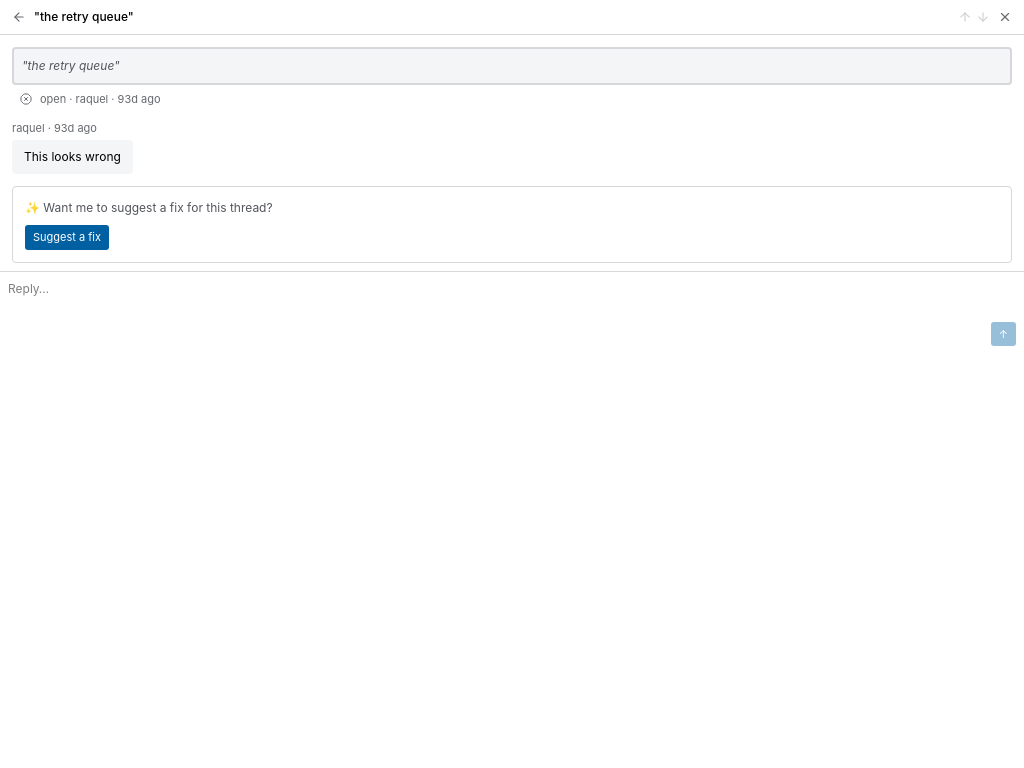
Test: ThreadView › history events appear when the status row is clicked
The width and height of the screenshot is (1024, 768).
Click the element with test id "status-row": (90, 99) x1=20 y1=92 x2=161 y2=106
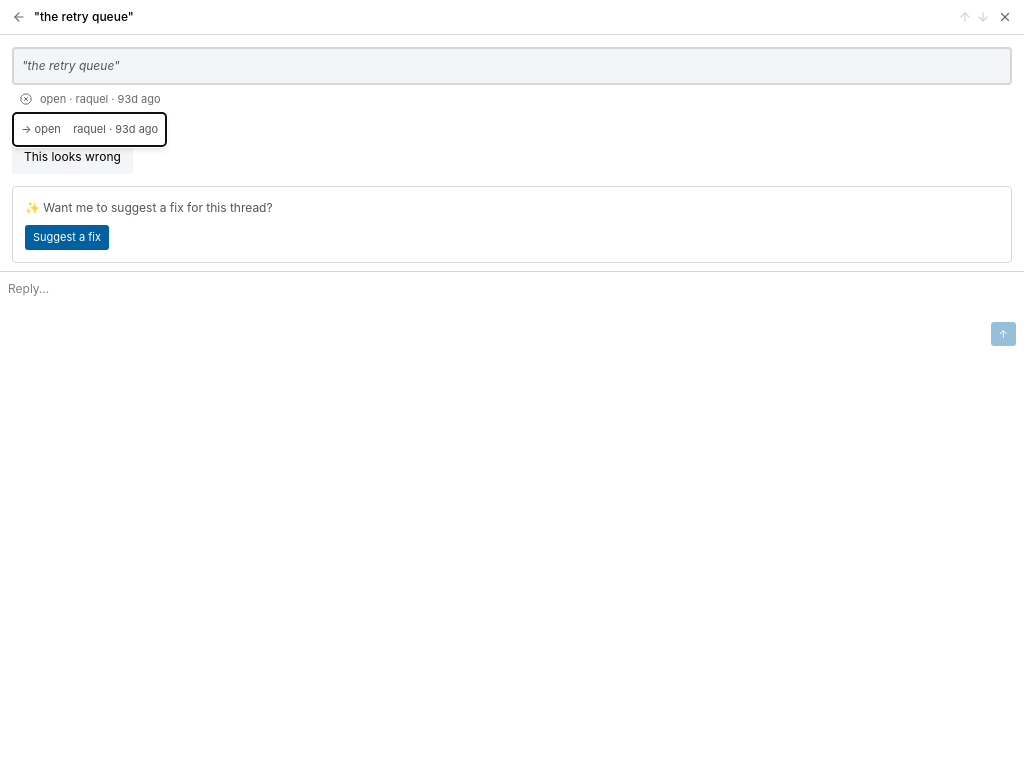
expect the text "→ open raquel · 93d ago" is shown: met, box x1=21 y1=121 x2=158 y2=138
